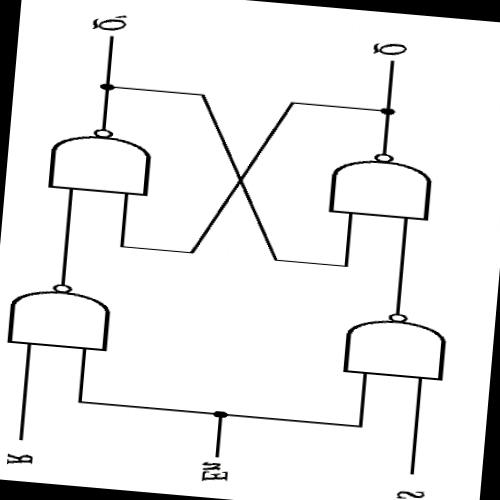nand: (334, 304, 460, 383), (319, 144, 443, 224), (0, 273, 122, 354), (43, 120, 158, 197)
